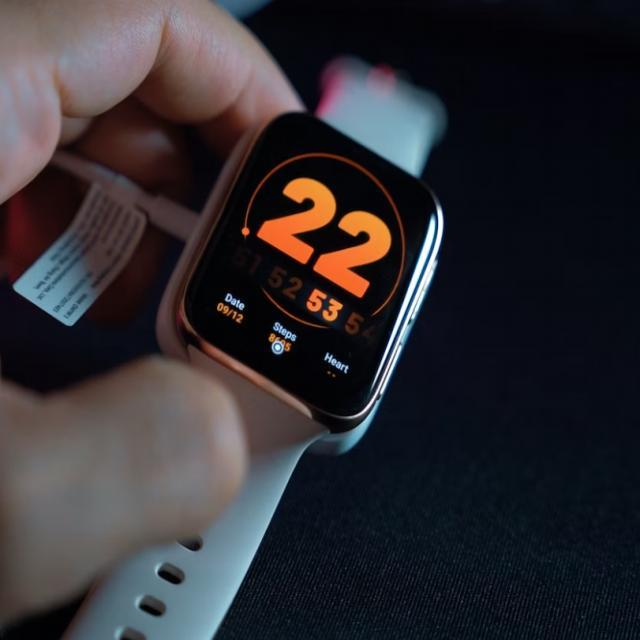Watch: (73, 56, 454, 640)
